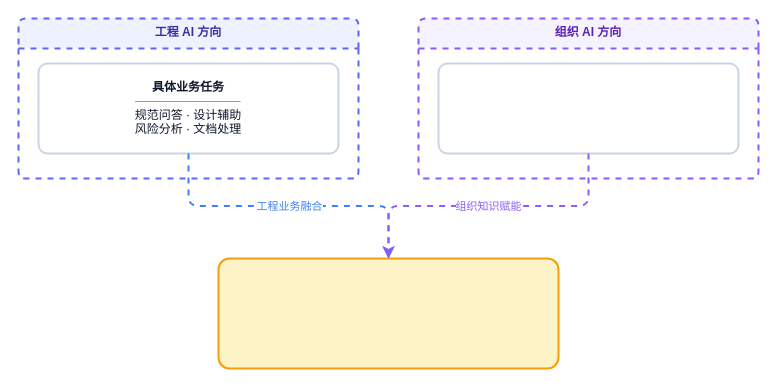
This 776x386 diagram has some shape labels left out. The shapes that lost their labels are listed below. From the top down, each one's centre as x and y in pixels, then its label:
At (x=588, y=108): "组织协同能力 组织学习 · 人机协作 知识管理 · 经验沉淀".
At (x=388, y=313): "★ 交叉空白 团队级 AI 智能体 （本文定位）".
